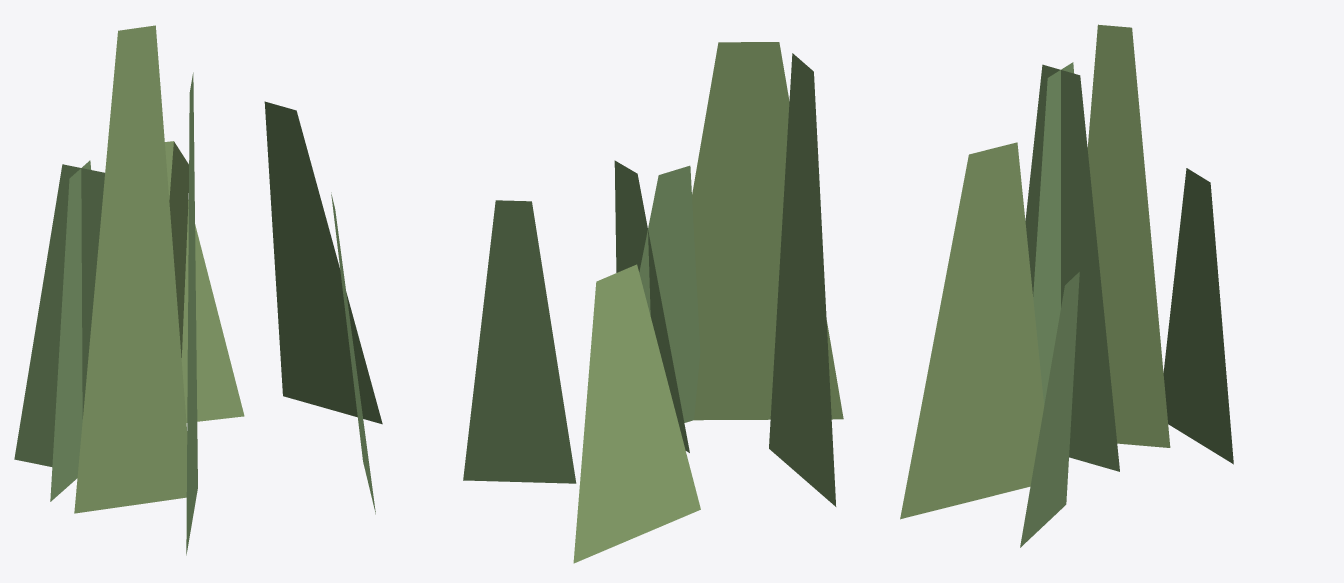
The model's file is cao.yangmao__spring.glb.
3 views of the same model, side by side, from view 1: azimuth 30°, elevation 25°; view 2: azimuth 150°, elevation 25°; view 3: azimuth 270°, elevation 25° (orthographic). The views are drawn at different scales.
Parts seen in each view (by area): view 1: cao.yangmao__spring; view 2: cao.yangmao__spring; view 3: cao.yangmao__spring.
Boxes of the visible parts, bbox=[...] form: cao.yangmao__spring: bbox=[14, 25, 382, 555]; cao.yangmao__spring: bbox=[463, 42, 843, 563]; cao.yangmao__spring: bbox=[900, 24, 1233, 547].
Size of the model in its own units: 0.4355 by 0.5679 by 0.525.
